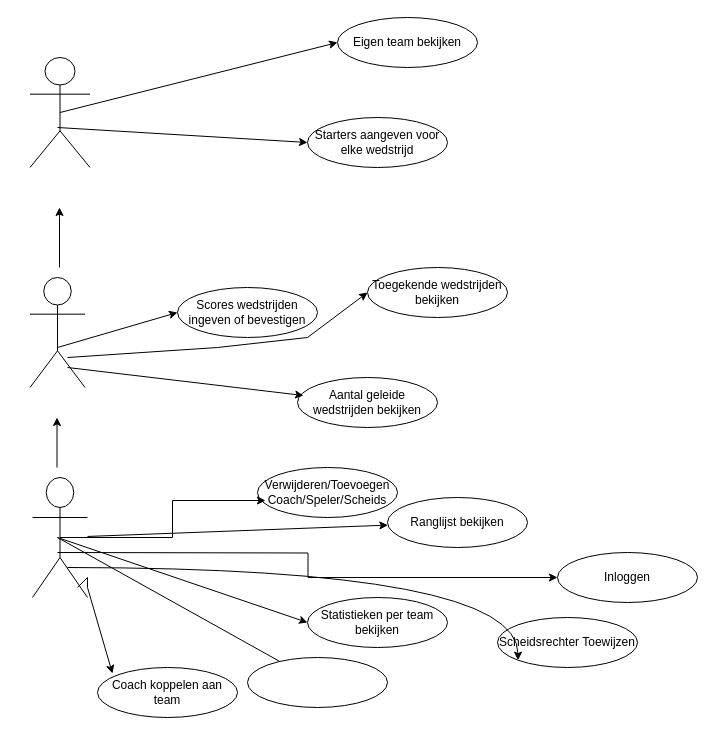
The diagram is 715 pixels wide and 735 high, and some of its shapes have lost their labels. Here are the shapes that lost their labels. From the top down, the centre of each, then its label:
point (59, 112): Coach
point (57, 332): Scheidsrechter
point (60, 537): Admin
point (317, 682): Speelschema genereren
